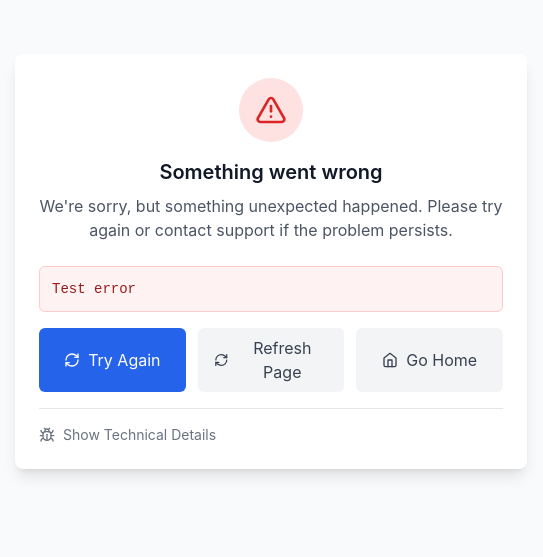
Test: ErrorBoundary › shows technical details when showDetails is true
This screenshot has width=543, height=557.
Click the button "Show Technical Details" at (128, 434), box [39,424,216,444]
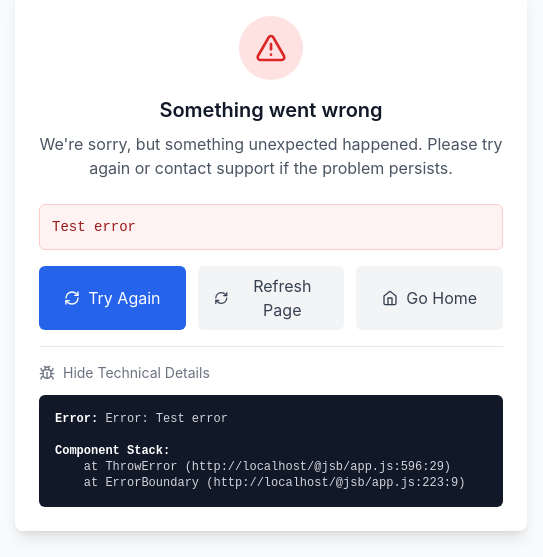
Now the text "Component Stack:" is shown, box [55,444,170,458]
